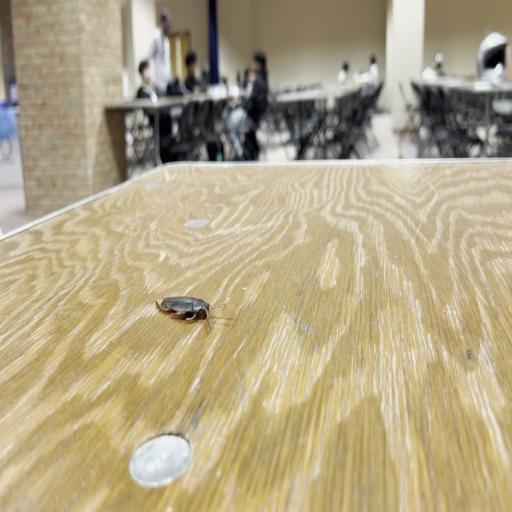cockroach: (155, 295, 231, 329)
